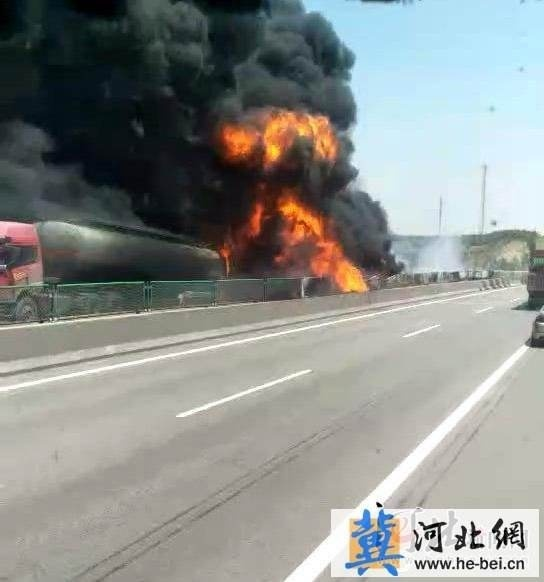fire: (214, 108, 374, 292)
